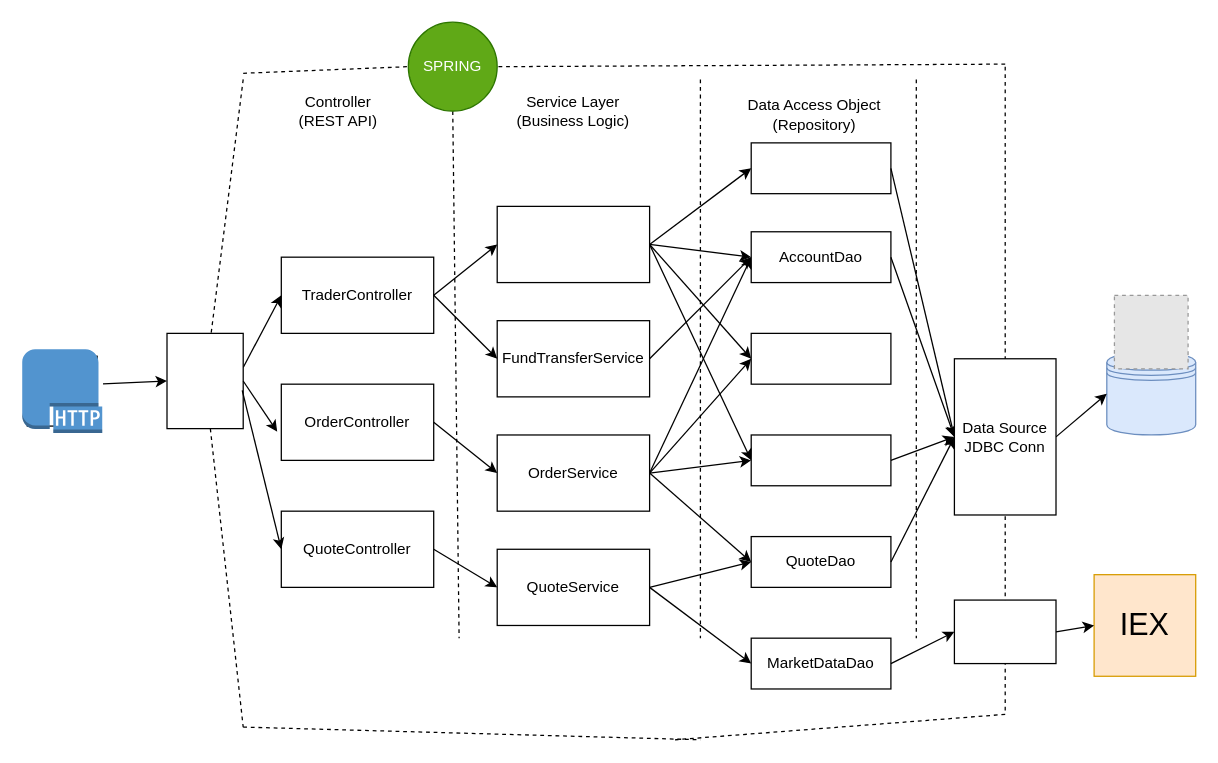
Image size: 1218x763. Some labels were removed from this diagram. Grey dashed boxes stand in for pictures. Here are the shapes that lost their labels. From the top down, the centre of each, then its label:
[820,168]: TraderDao
[573,244]: RegisterService
[820,358]: PostionDao
[204,380]: Servelet Container
[1151,393]: PostgreSQL
[820,460]: SecurityOrderDao
[1004,631]: Http Client
